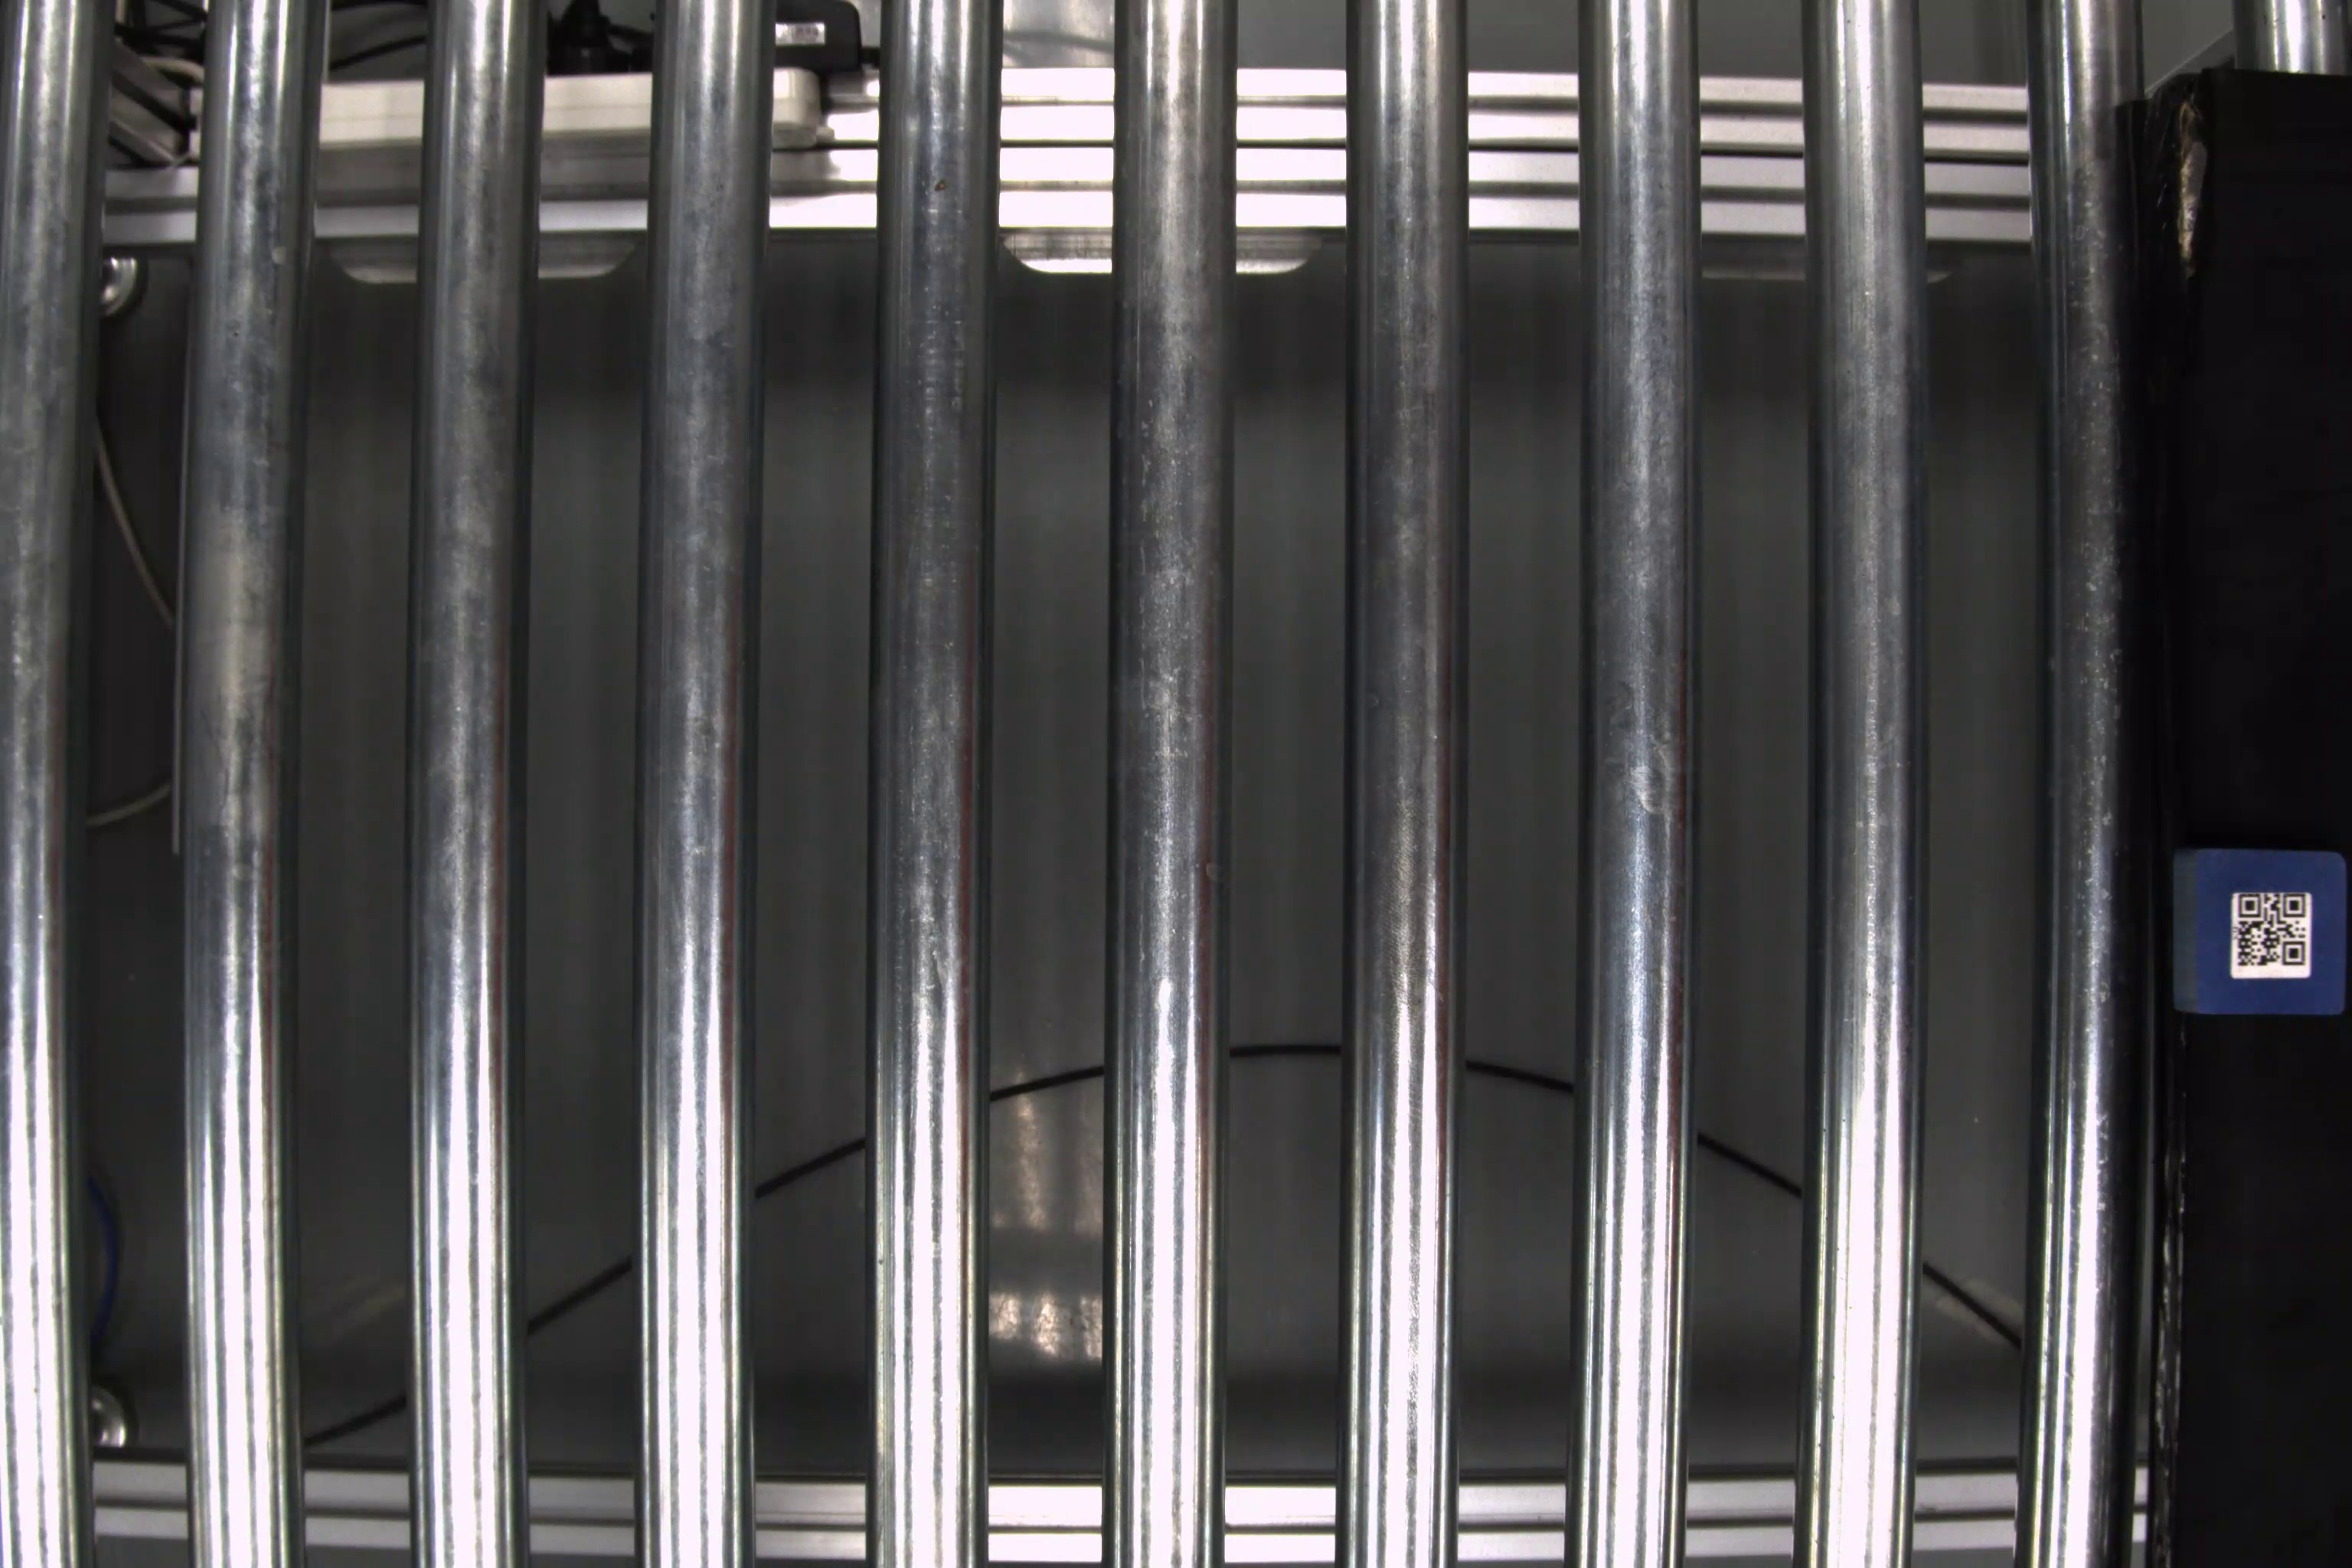wood: (2161, 835, 2345, 1027)
